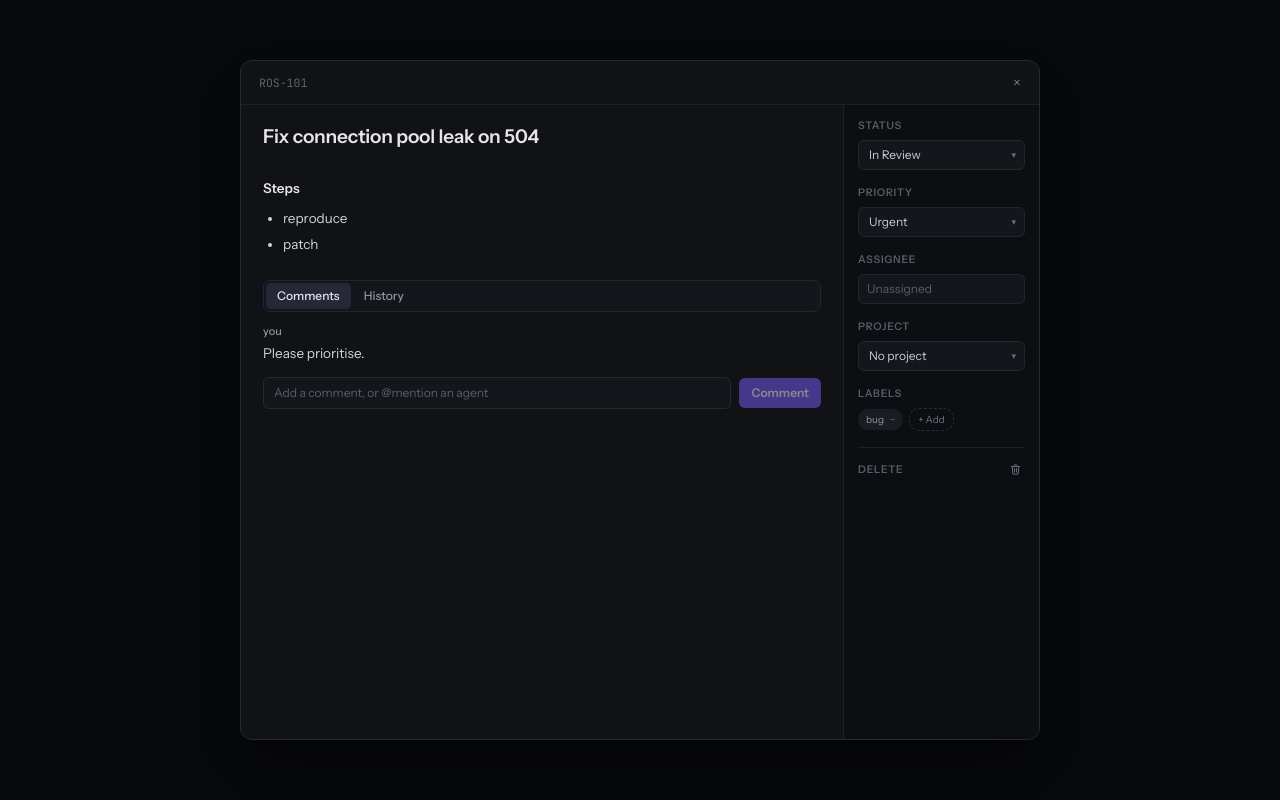
Scenario: TaskDetailModal — Comments and History › History shows the change log, not the conversation
The width and height of the screenshot is (1280, 800).
Click the tab "History" at (384,296), box x1=353 y1=283 x2=415 y2=309
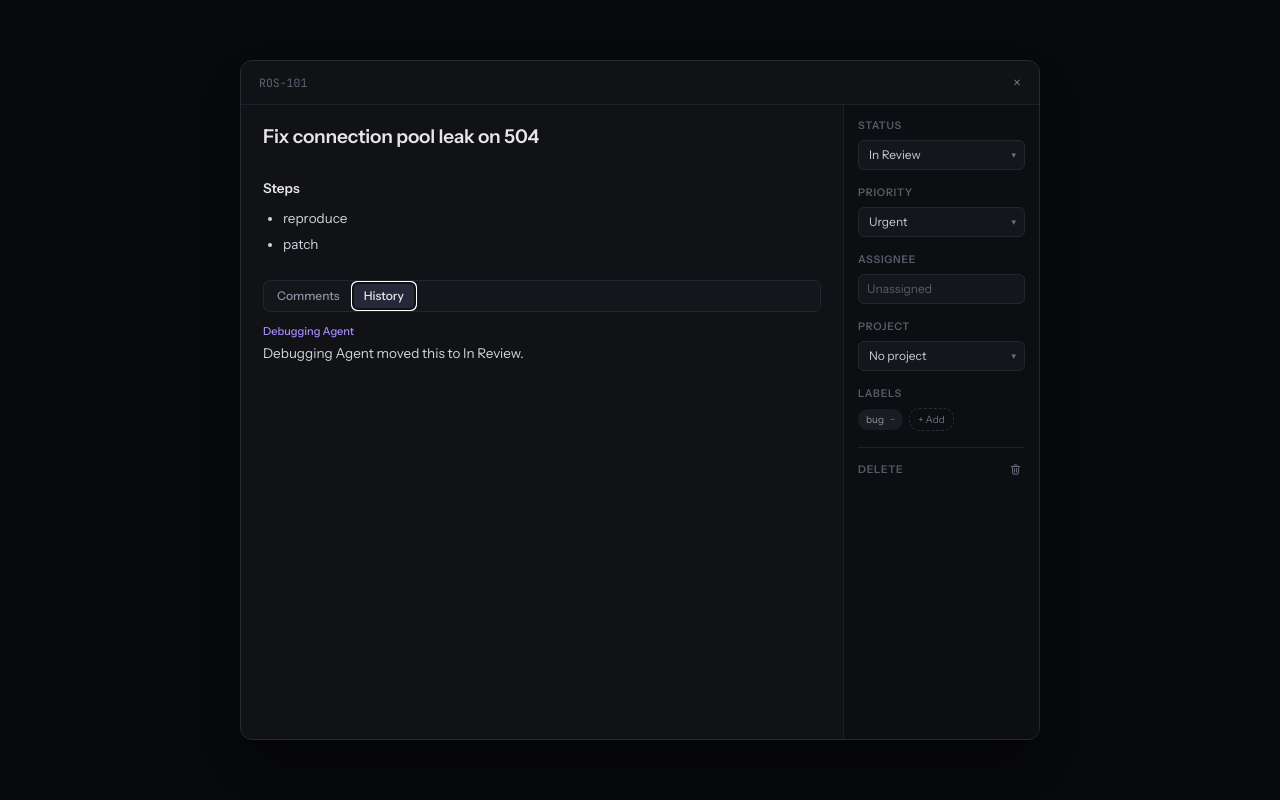
Check: the text "Debugging Agent moved this to In Review." is shown, box x1=263 y1=345 x2=524 y2=361
Check: the text "Please prioritise." is gone
